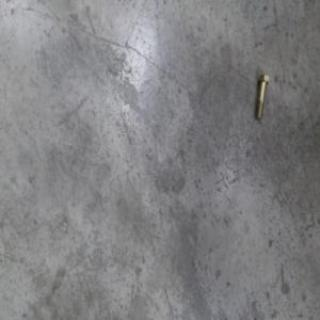Bolttrack_idkeyframe: (251, 68, 266, 115)
